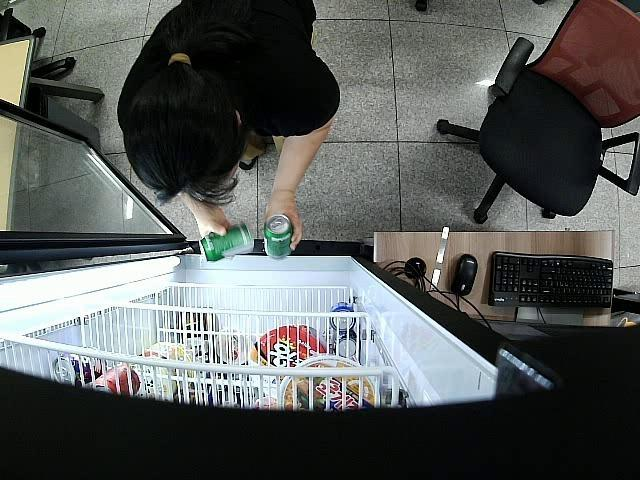12_chilsungCider: (198, 223, 254, 262), (264, 214, 292, 260)
